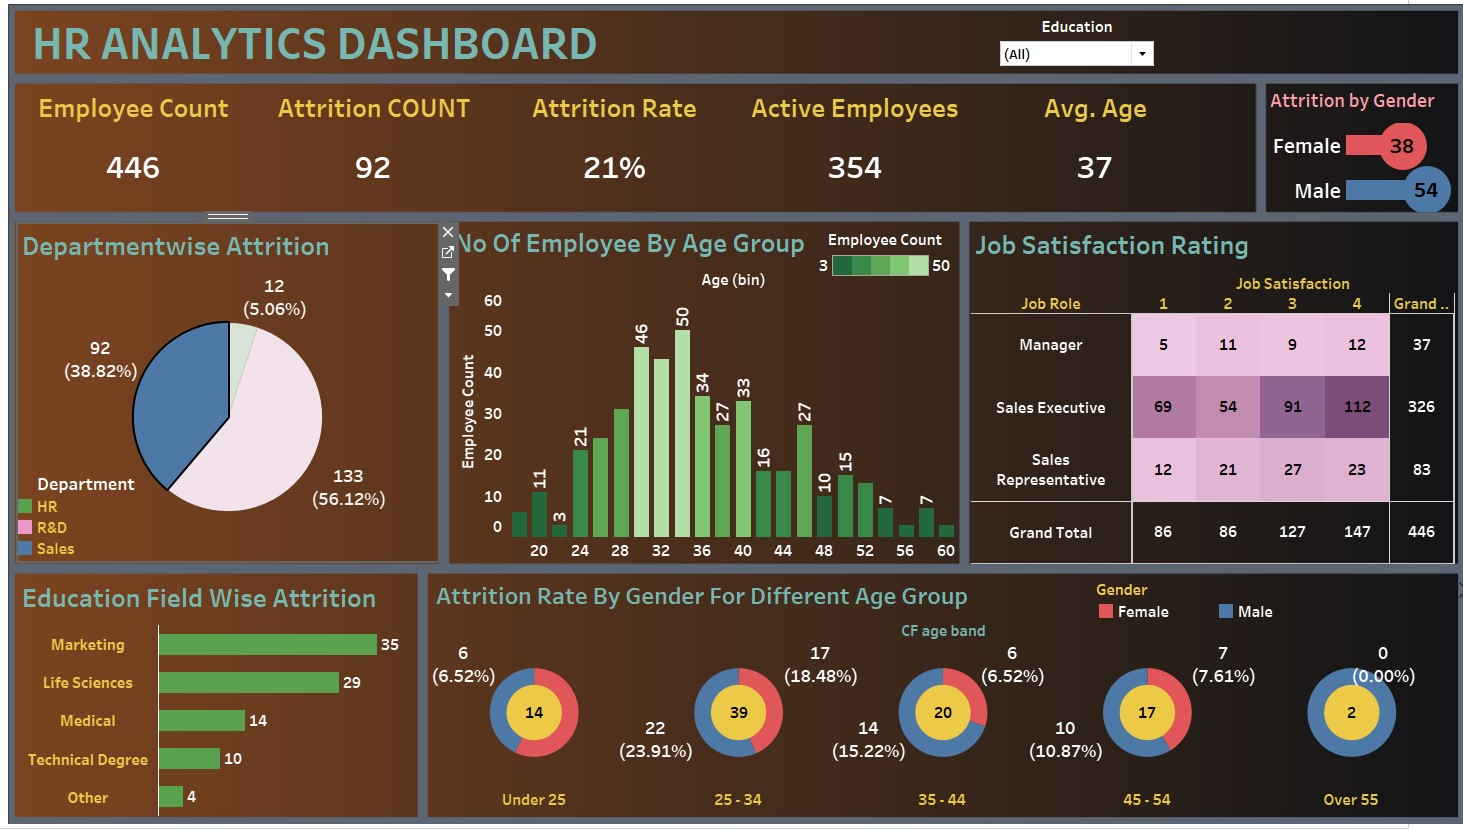

What the dashboard file says about the page in this screenshot:
{"tool":"tableau","page":{"name":"HR Analytics","canvas":[1580,900],"ordinal":0},"visuals":[{"type":"image","box":[1,1,1454,830]},{"type":"image","param":"C:/Users/DR Naidu/Desktop/SHRAVANAN/job/DATA ANALYTICS/Dashbord/HR background/Sl","box":[7,6,1552,820]},{"type":"text","box":[60,11,602,65]},{"type":"filter","title":"No Of Employee By Age Group","param":"[federated.12m95jg1g2nggn19hunuf1024r64].[none:Education:nk]","box":[1043,18,160,55]},{"type":"worksheet","title":"Attrition by Gender","mark":"Automatic","rows":["Gender"],"cols":["Calculation_150589152714838016","Calculation_150589152714838016"],"box":[1312,85,189,129]},{"type":"worksheet","title":"kpi","mark":"Text","box":[59,86,1203,125]},{"type":"worksheet","title":"No Of Employee By Age Group","mark":"Automatic","rows":["Employee Count"],"cols":["Age (bin)"],"box":[496,223,507,341]},{"type":"worksheet","title":"Job Satisfaction Rating","mark":"Square","rows":["Job Role"],"cols":["Job Satisfaction"],"box":[1016,225,485,341]},{"type":"worksheet","title":"Departmentwise Attrition","mark":"Pie","box":[64,226,420,337]},{"type":"legend","title":"No Of Employee By Age Group","param":"[federated.12m95jg1g2nggn19hunuf1024r64].[sum:Employee Count:qk]","box":[861,231,140,88]},{"type":"legend","title":"Departmentwise Attrition","param":"[federated.12m95jg1g2nggn19hunuf1024r64].[none:Department:nk]","box":[61,473,142,91]},{"type":"worksheet","title":"Attrition Rate By Gender For Different Age Group","mark":"Pie","rows":["Calculation_601230590750121985","Calculation_601230590750121985"],"cols":["CF_age band"],"box":[478,577,1023,236]},{"type":"worksheet","title":"Education Field Wise Attrition","mark":"Automatic","rows":["Education Field"],"cols":["Calculation_150589152714838016"],"box":[64,578,396,240]},{"type":"dashboard-object","box":[1501,580,24,24]},{"type":"legend","title":"Attrition Rate By Gender For Different Age Group","param":"[federated.12m95jg1g2nggn19hunuf1024r64].[none:Gender:nk]","box":[1142,581,353,51]}]}

Visuals, with their boxes in screenshot pixels (x1, y1, x2, y2), scaled from the page's 1580x900 canvas onto the 1463x830 screenshot:
image: rect(1, 1, 1347, 766)
image: rect(6, 6, 1444, 762)
text: rect(56, 10, 613, 70)
"No Of Employee By Age Group" filter: rect(966, 17, 1114, 67)
"Attrition by Gender" worksheet: rect(1215, 78, 1390, 197)
"kpi" worksheet (Text marks): rect(55, 79, 1169, 195)
"No Of Employee By Age Group" worksheet: rect(459, 206, 929, 520)
"Job Satisfaction Rating" worksheet (Square marks): rect(941, 208, 1390, 522)
"Departmentwise Attrition" worksheet (Pie marks): rect(59, 208, 448, 519)
"No Of Employee By Age Group" legend: rect(797, 213, 927, 294)
"Departmentwise Attrition" legend: rect(56, 436, 188, 520)
"Attrition Rate By Gender For Different Age Group" worksheet (Pie marks): rect(443, 532, 1390, 750)
"Education Field Wise Attrition" worksheet: rect(59, 533, 426, 754)
dashboard-object: rect(1390, 535, 1412, 557)
"Attrition Rate By Gender For Different Age Group" legend: rect(1057, 536, 1384, 583)
